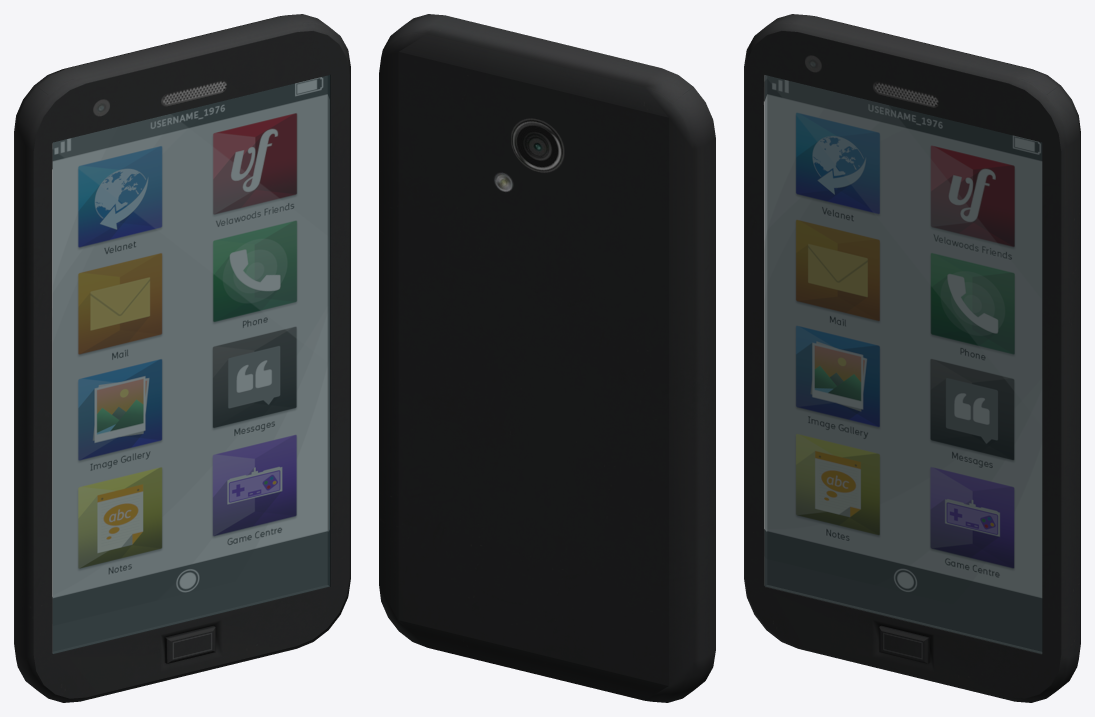
The model's file is Sun_0121_SmartPhone.fbx.
The picture shows the model from 3 angles, left to right: view 1: azimuth 30°, elevation 25°; view 2: azimuth 150°, elevation 25°; view 3: azimuth 330°, elevation 25°; orthographic projection.
Visible parts, largest first — view 1: Sun_0121_SmartPhone; view 2: Sun_0121_SmartPhone; view 3: Sun_0121_SmartPhone.
Part boxes in pixels (box(x1,y1,x2,y2)): Sun_0121_SmartPhone: box(14, 14, 350, 702); Sun_0121_SmartPhone: box(379, 14, 715, 702); Sun_0121_SmartPhone: box(744, 14, 1080, 702).
Size of the model in its own units: 7.5 by 13.8 by 0.9388.
